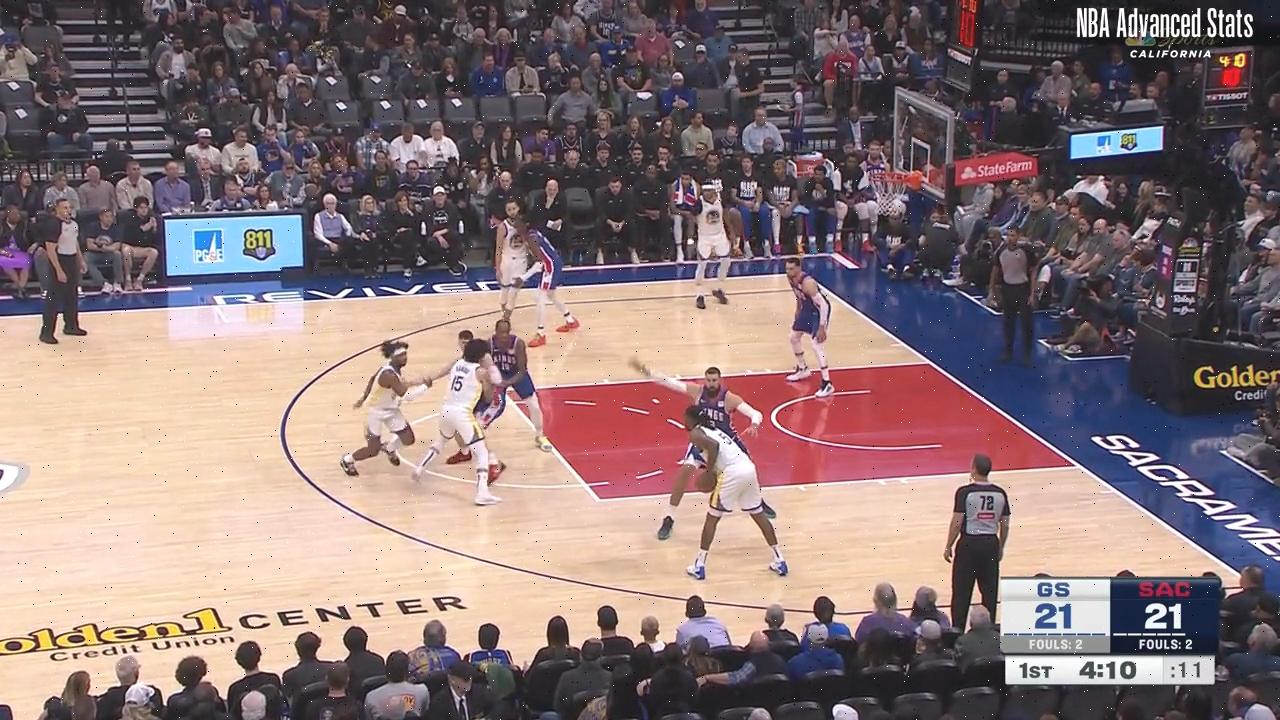basketball: (694, 467, 720, 494)
